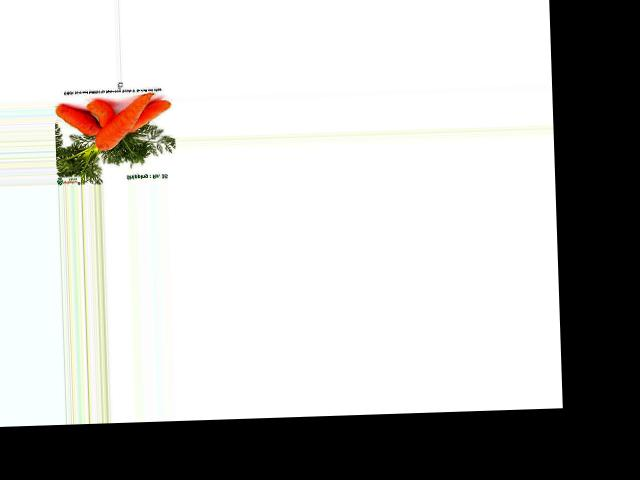carrot: (56, 102, 102, 141)
